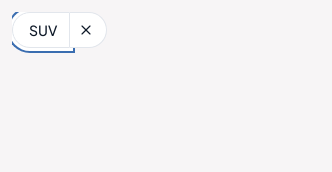
Test: Badges and chips › toggles a chip and exposes aria-pressed
Type keys " "
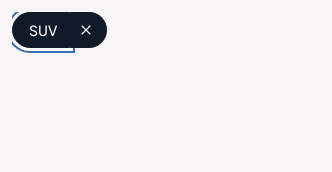
expect the button "SUV" is pressed: met, box [12,12,70,48]
Click the button named "Hapus filter SUV": (89, 30) [70,12,107,48]
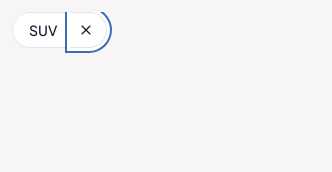
expect the button "SUV" is not pressed: met, box [12,12,70,48]
